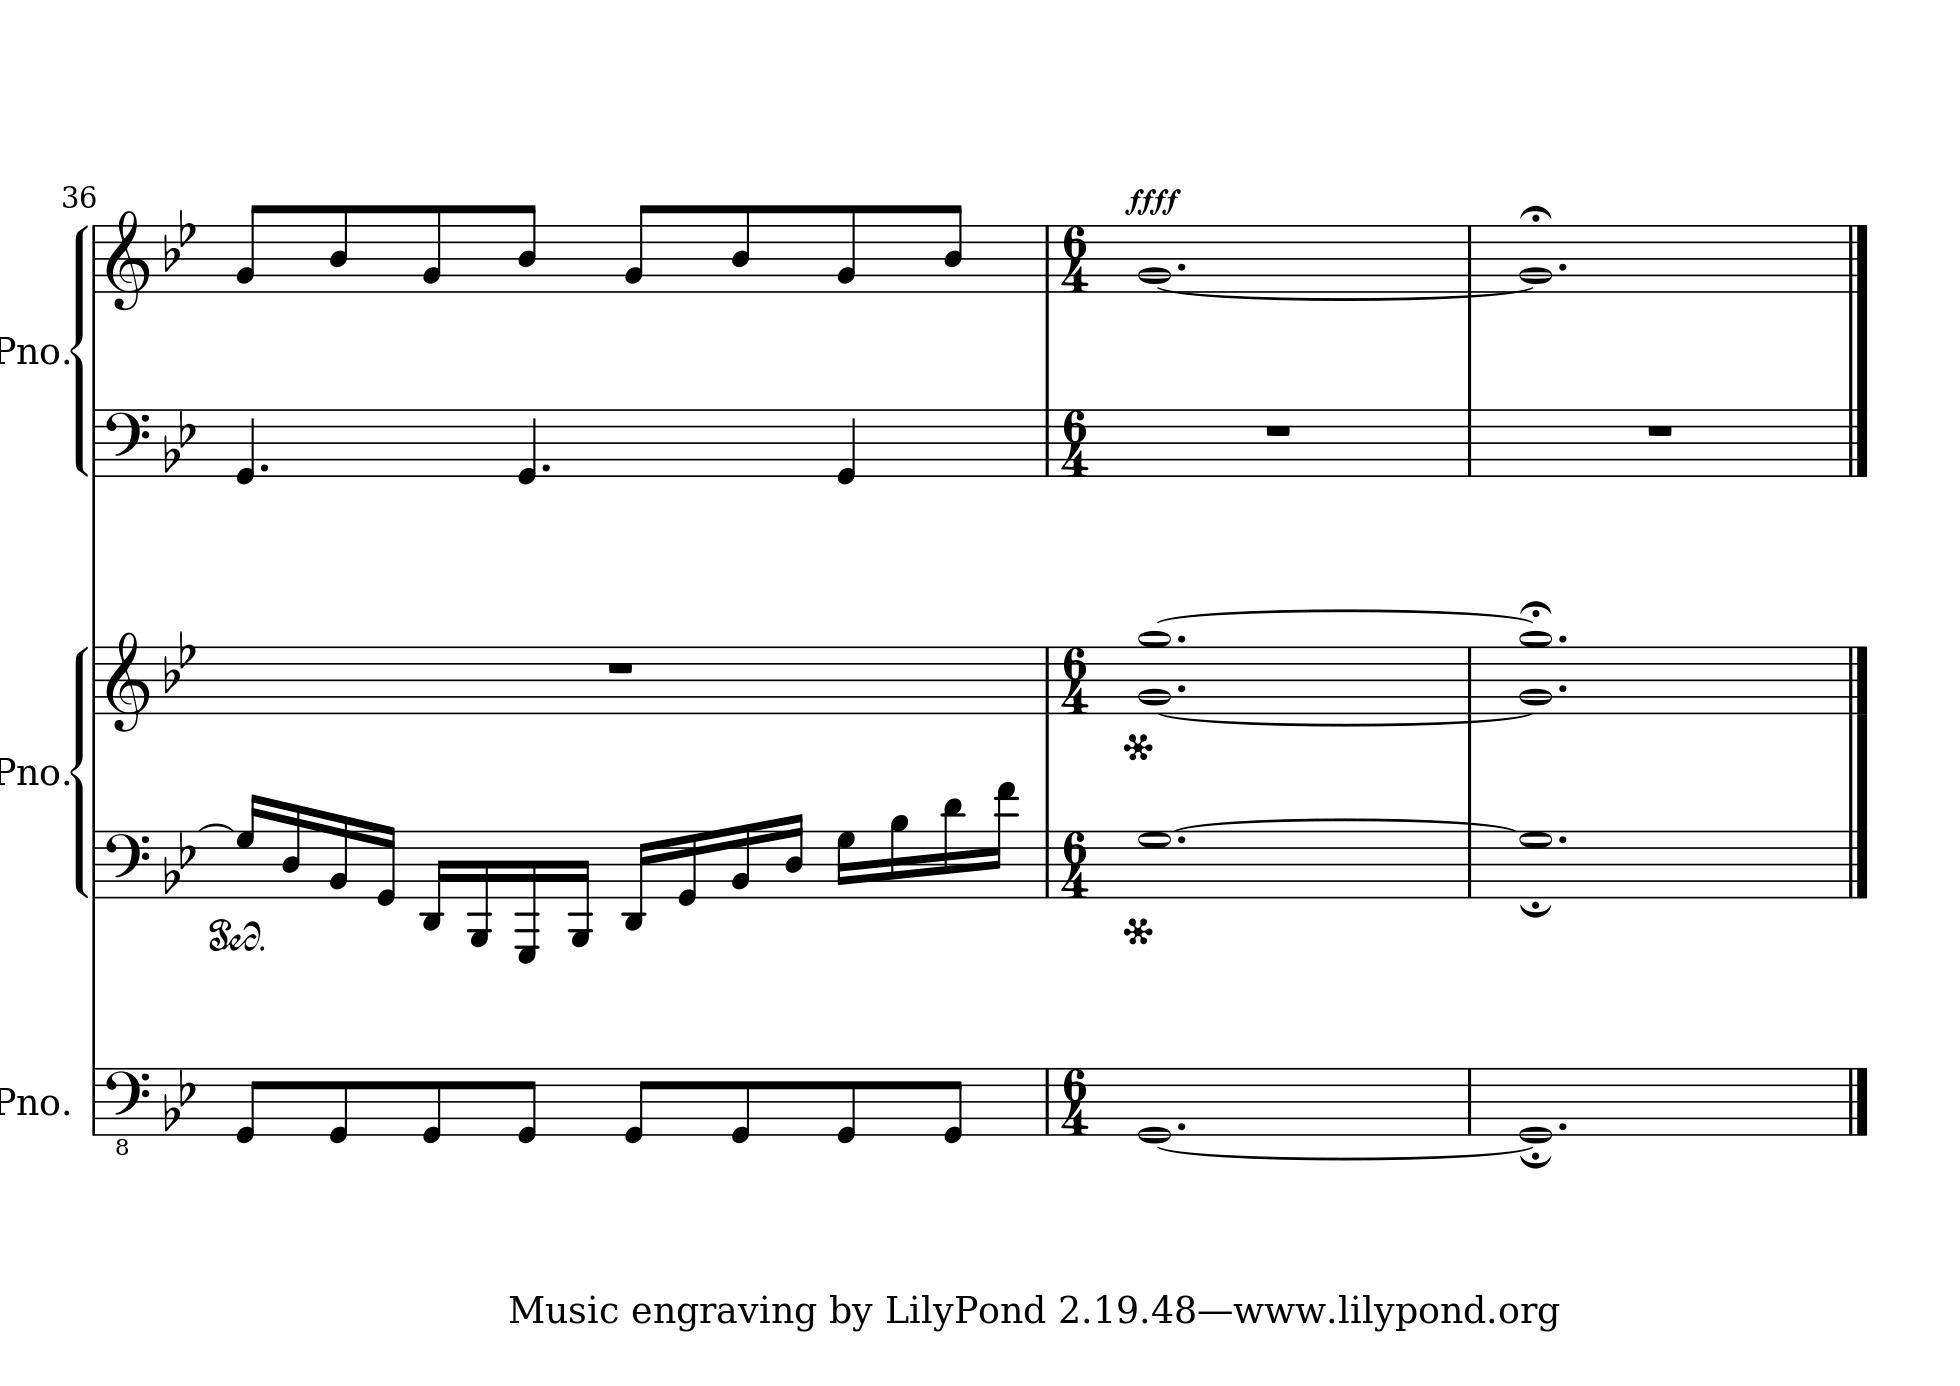16_-3: (418, 829, 450, 931), (621, 829, 652, 931)
16_-5: (565, 828, 594, 948), (466, 829, 493, 948)
16_-7: (514, 829, 541, 964)
16_0: (373, 822, 397, 907), (675, 828, 699, 907)
16_11: (940, 793, 964, 898)
16_13: (988, 778, 1020, 898)
16_2: (325, 811, 351, 898), (729, 820, 753, 898)
16_4: (280, 799, 303, 898), (783, 811, 805, 898)
16_7: (834, 826, 856, 897)
16_9: (888, 810, 907, 898)
1_0: (1137, 1063, 1173, 1144), (1518, 1063, 1554, 1143)
1_2: (1518, 222, 1554, 295), (1137, 220, 1173, 292)
1_2_9: (1518, 628, 1555, 718), (1135, 628, 1173, 715)
1_7: (1518, 828, 1554, 901), (1137, 828, 1173, 900)
3: (61, 183, 78, 208)
4: (1059, 862, 1092, 898), (1059, 1099, 1092, 1135), (1059, 258, 1092, 292), (1059, 442, 1092, 475), (1060, 679, 1092, 714)
4_0: (234, 406, 258, 484), (516, 406, 538, 486), (835, 406, 858, 486)
6: (1060, 826, 1089, 864), (1060, 643, 1089, 679), (1060, 222, 1087, 259), (1060, 1066, 1089, 1101), (1060, 406, 1087, 442), (79, 183, 97, 208)
8_0: (622, 1066, 652, 1144), (234, 1066, 262, 1144), (327, 1065, 349, 1144), (420, 1065, 442, 1144), (835, 1065, 858, 1144), (516, 1066, 538, 1144), (729, 1066, 751, 1144), (942, 1066, 964, 1144)
8_2: (624, 202, 652, 292), (235, 202, 262, 291), (420, 202, 442, 292), (835, 202, 858, 292)
8_4: (516, 202, 538, 295), (328, 202, 349, 295), (730, 202, 751, 295), (943, 202, 964, 294)
8_7: (235, 790, 262, 898)
B_F: (163, 406, 196, 472), (162, 627, 195, 693), (163, 829, 196, 894), (163, 1065, 196, 1129)
Brace: (70, 643, 90, 895), (70, 220, 88, 475)
E_F: (162, 207, 196, 271)
Fclef: (105, 406, 151, 478), (103, 829, 150, 898)
Fermata_above: (1519, 202, 1554, 222), (1518, 898, 1554, 916), (1518, 1150, 1554, 1168)
Final_barline: (1843, 645, 1872, 712), (1843, 223, 1870, 291), (1843, 829, 1870, 897), (1843, 406, 1869, 475), (1845, 1066, 1870, 1134)
Gclef: (105, 208, 150, 312), (105, 628, 148, 733)
Lower_Fclef: (103, 1065, 150, 1155)
Pno: (1, 1084, 58, 1120), (1, 754, 61, 787), (1, 333, 61, 364)
Rests1: (1644, 421, 1677, 439), (604, 658, 637, 676), (1263, 421, 1294, 439)
Single_barline: (1461, 646, 1479, 718), (1461, 825, 1479, 895), (1461, 225, 1479, 292), (1039, 409, 1056, 475), (1039, 646, 1056, 712), (87, 646, 103, 712), (1039, 226, 1056, 291), (88, 225, 103, 292), (1039, 829, 1054, 897), (1462, 409, 1477, 475), (87, 1066, 102, 1132), (88, 409, 103, 474), (87, 831, 102, 895), (1462, 1069, 1477, 1132)
Slur: (198, 820, 232, 832)
TimeSig: (1056, 1066, 1095, 1135), (1057, 645, 1095, 714), (1057, 225, 1093, 292), (1059, 408, 1095, 475), (1059, 829, 1093, 895)
dot: (1557, 631, 1572, 645), (1555, 681, 1570, 694), (538, 460, 552, 474), (1176, 1117, 1188, 1132), (1176, 259, 1188, 273), (1557, 259, 1569, 273), (256, 460, 270, 472), (1176, 631, 1188, 645), (1176, 681, 1188, 694), (1176, 832, 1188, 846), (1557, 1119, 1569, 1132), (1557, 832, 1569, 844)
ffff: (1125, 184, 1182, 216)
